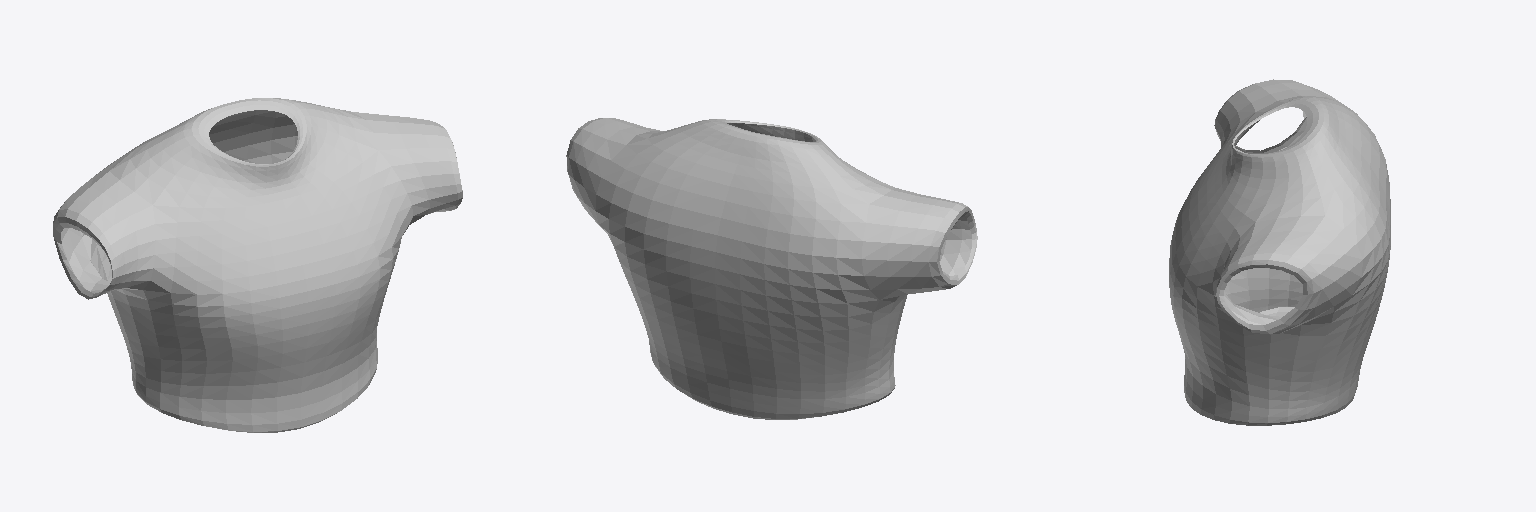
The model's file is torso_2_s_v2.obj.
3 renders of one model, left to right at view 1: azimuth 30°, elevation 25°; view 2: azimuth 150°, elevation 25°; view 3: azimuth 270°, elevation 25°, orthographic.
Parts seen in each view (by area): view 1: 2; view 2: 2; view 3: 2.
Part boxes in pixels (bbox=[...]): 2: bbox=[53, 98, 462, 432]; 2: bbox=[566, 118, 977, 419]; 2: bbox=[1169, 79, 1390, 425].
Size of the model in its own units: 0.3884 by 0.2731 by 0.1989.